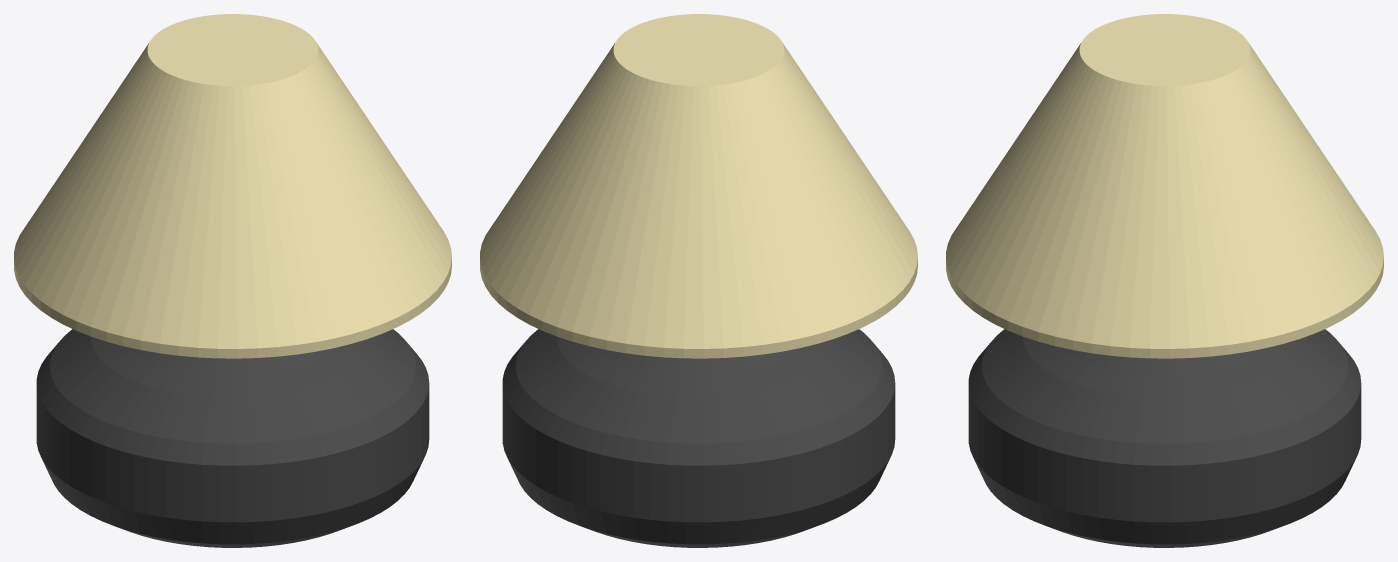
Rendered from lampara-mesa.fbx.
The picture shows the model from 3 angles, left to right: view 1: azimuth 30°, elevation 25°; view 2: azimuth 150°, elevation 25°; view 3: azimuth 270°, elevation 25°; orthographic projection.
Parts seen in each view (by area): view 1: lampara; view 2: lampara; view 3: lampara.
Boxes of the visible parts, x1,y1,x2,y2 form: lampara: (14, 14, 451, 547); lampara: (480, 14, 917, 547); lampara: (946, 14, 1383, 547).
Size of the model in its own units: 200 by 226 by 200.
1 material, 1 textured.
